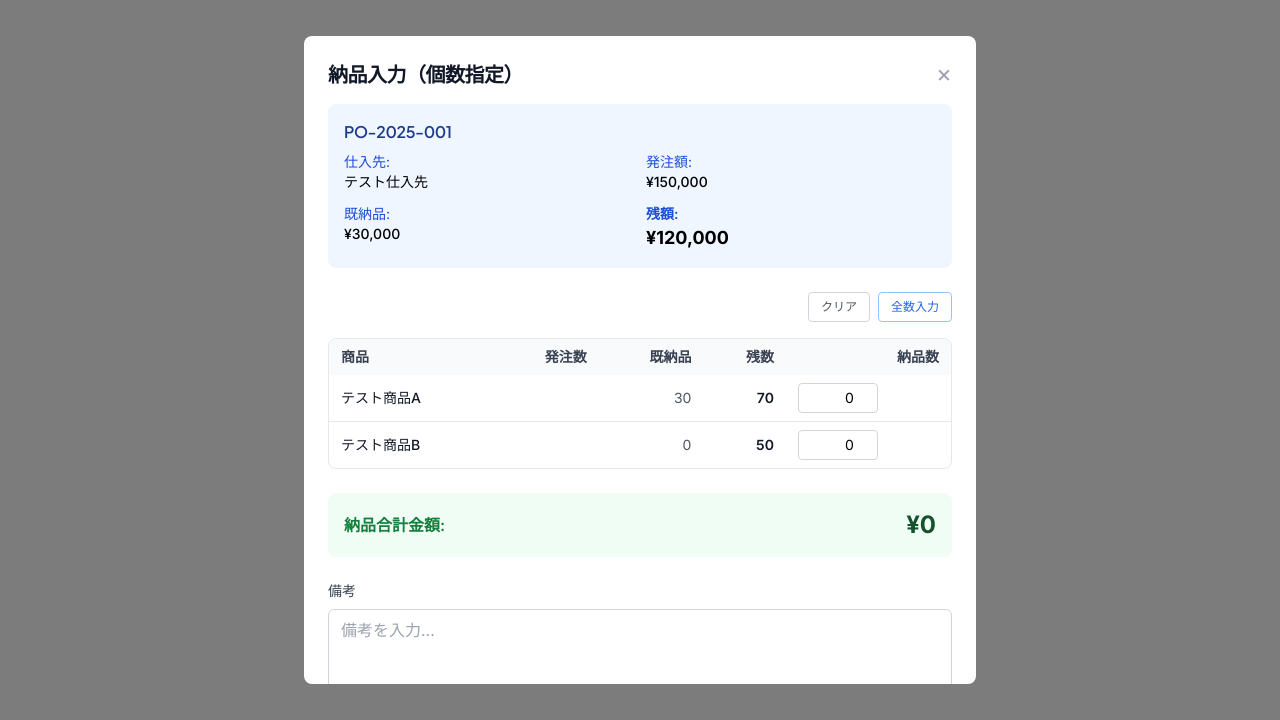
Test: DeliveryModal › バリデーション › 残数量を超える入力時にエラーメッセージを表示する
Clear the number field in the row of "テスト商品A": (838, 398) [798,383,878,413]
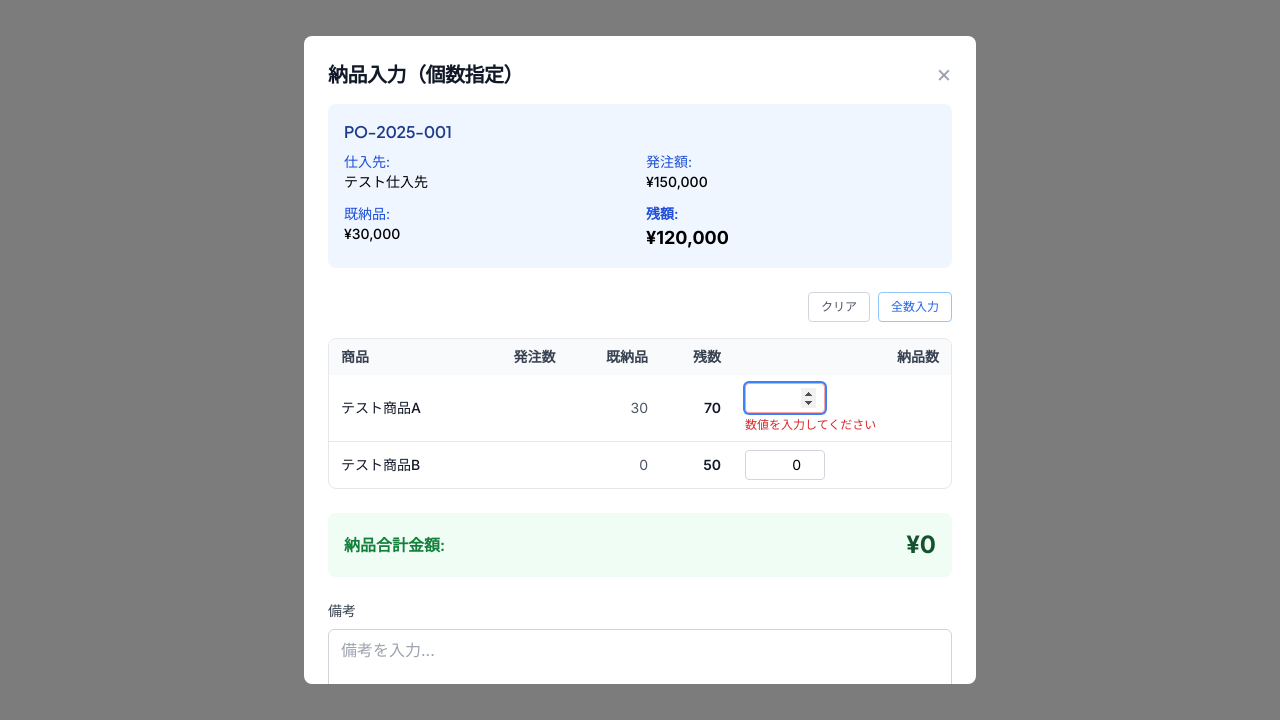
In the number field in the row of "テスト商品A": (785, 398) [745,383,825,413], type "80"
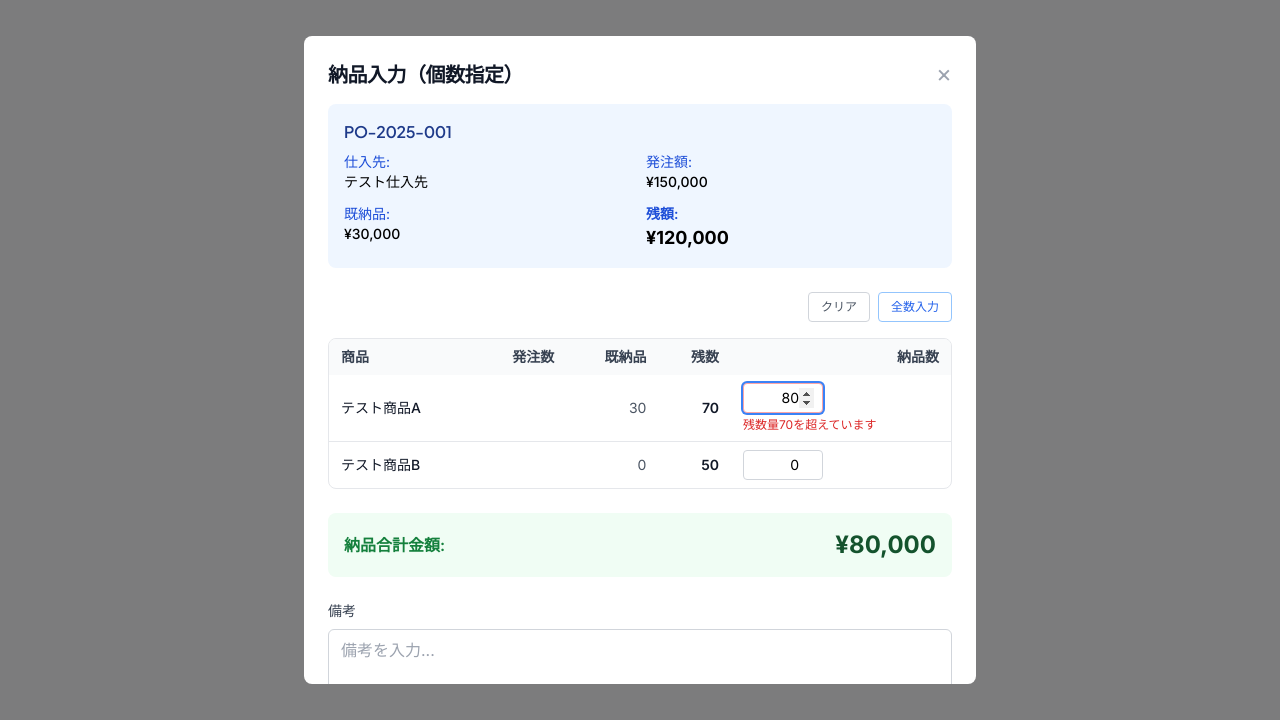
Result: the text "残数量70を超えています" is shown at [743,417,877,432]
